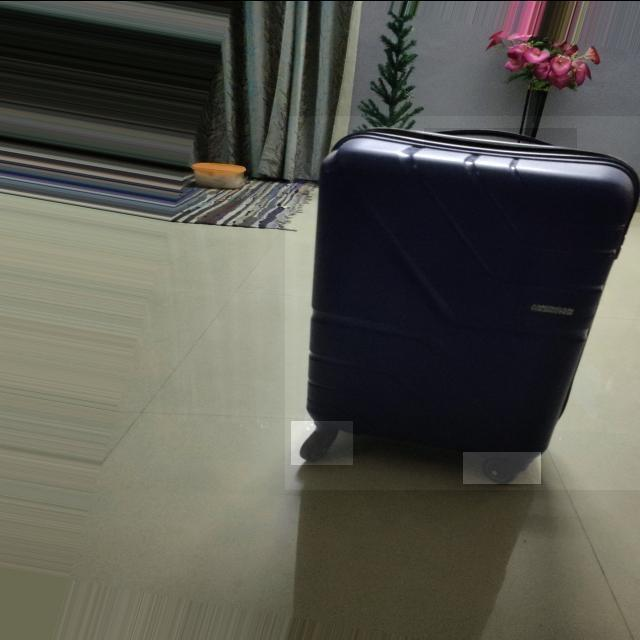Suitcase: (290, 110, 640, 493)
